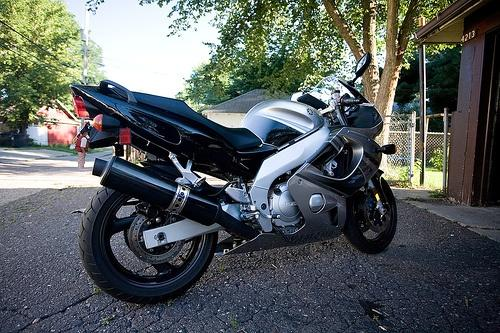tampered: (76, 129, 258, 169)
